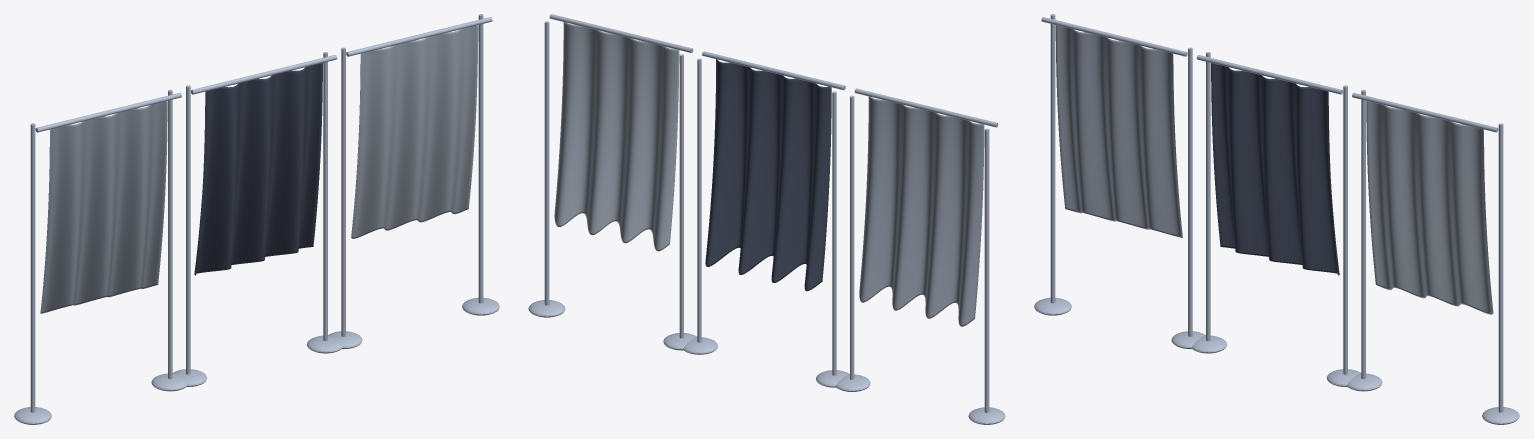
Rendered from aulla-material-study.glb.
3 renders of one model, left to right at view 1: azimuth 30°, elevation 25°; view 2: azimuth 150°, elevation 25°; view 3: azimuth 330°, elevation 25°, orthographic.
Parts seen in each view (by area): view 1: SWATCH_velvet_visual_study, SWATCH_chiffon_crepe_visual_study, SWATCH_cotton_visual_study, SUPPORT_upright_0_-0.42, SUPPORT_upright_2_0.42, SUPPORT_upright_1_-0.42, SUPPORT_upright_2_-0.42, SUPPORT_upright_1_0.42, SUPPORT_upright_0_0.42, SUPPORT_rod_0, SUPPORT_rod_2, SUPPORT_rod_1 (+4 smaller); view 2: SWATCH_velvet_visual_study, SWATCH_cotton_visual_study, SWATCH_chiffon_crepe_visual_study, SUPPORT_upright_2_0.42, SUPPORT_upright_0_-0.42, SUPPORT_upright_1_0.42, SUPPORT_upright_2_-0.42, SUPPORT_upright_1_-0.42, SUPPORT_upright_0_0.42, SUPPORT_rod_0, SUPPORT_rod_1, SUPPORT_rod_2 (+4 smaller); view 3: SWATCH_velvet_visual_study, SWATCH_chiffon_crepe_visual_study, SWATCH_cotton_visual_study, SUPPORT_upright_2_0.42, SUPPORT_upright_0_-0.42, SUPPORT_upright_0_0.42, SUPPORT_upright_1_0.42, SUPPORT_upright_1_-0.42, SUPPORT_upright_2_-0.42, SUPPORT_rod_0, SUPPORT_rod_1, SUPPORT_rod_2 (+4 smaller).
Part boxes in pixels (x1,y1,x2,y2): SWATCH_velvet_visual_study: (194, 63, 322, 275); SWATCH_chiffon_crepe_visual_study: (351, 25, 478, 238); SWATCH_cotton_visual_study: (40, 101, 167, 313); SUPPORT_upright_0_-0.42: (30, 123, 35, 412); SUPPORT_upright_2_0.42: (478, 14, 483, 303); SUPPORT_upright_1_-0.42: (186, 85, 190, 374); SUPPORT_upright_2_-0.42: (341, 47, 345, 336); SUPPORT_upright_1_0.42: (323, 52, 327, 341); SUPPORT_upright_0_0.42: (168, 89, 172, 379); SUPPORT_rod_0: (35, 92, 181, 132); SUPPORT_rod_2: (346, 17, 492, 56); SUPPORT_rod_1: (191, 55, 337, 94); SWATCH_velvet_visual_study: (705, 59, 831, 291); SWATCH_cotton_visual_study: (859, 96, 984, 326); SWATCH_chiffon_crepe_visual_study: (554, 22, 679, 251); SUPPORT_upright_2_0.42: (544, 21, 549, 305); SUPPORT_upright_0_-0.42: (984, 128, 989, 412); SUPPORT_upright_1_0.42: (697, 58, 701, 342); SUPPORT_upright_2_-0.42: (679, 54, 683, 338); SUPPORT_upright_1_-0.42: (832, 91, 836, 375); SUPPORT_upright_0_0.42: (850, 95, 854, 379); SUPPORT_rod_0: (854, 88, 998, 127); SUPPORT_rod_1: (702, 51, 845, 90); SUPPORT_rod_2: (549, 14, 693, 52); SWATCH_velvet_visual_study: (1211, 63, 1339, 275); SWATCH_chiffon_crepe_visual_study: (1366, 101, 1493, 314); SWATCH_cotton_visual_study: (1055, 25, 1182, 237); SUPPORT_upright_2_0.42: (1498, 123, 1503, 412); SUPPORT_upright_0_-0.42: (1050, 14, 1055, 303); SUPPORT_upright_0_0.42: (1188, 47, 1192, 336); SUPPORT_upright_1_0.42: (1343, 85, 1347, 374); SUPPORT_upright_1_-0.42: (1206, 52, 1210, 341); SUPPORT_upright_2_-0.42: (1361, 89, 1365, 379); SUPPORT_rod_0: (1041, 17, 1187, 56); SUPPORT_rod_1: (1196, 55, 1342, 94); SUPPORT_rod_2: (1352, 92, 1498, 132).
Size of what is drawn, in the model's own units: 2.94 by 1.74 by 0.2238.
